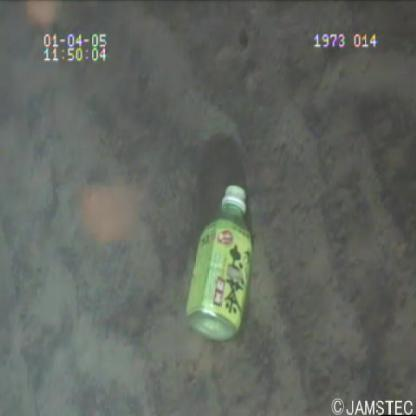Rác: (183, 177, 266, 349)
